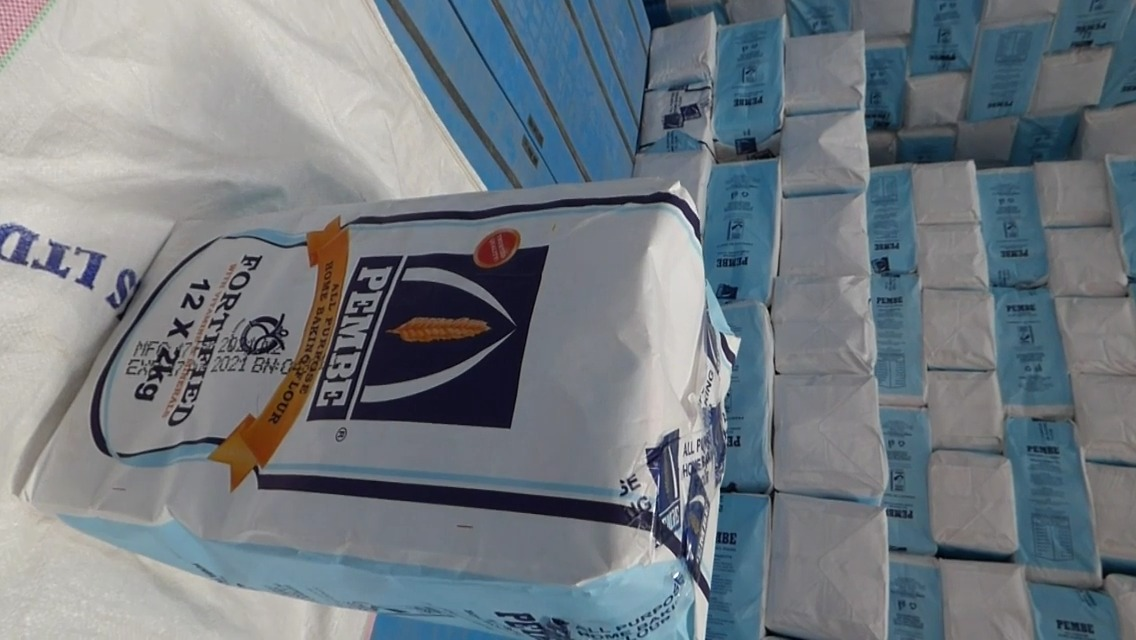wheat_flour_blue_label: (30, 179, 724, 640)
